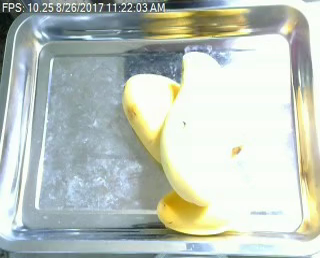Mango: (160, 52, 228, 206), (156, 182, 252, 238), (124, 73, 181, 164)
